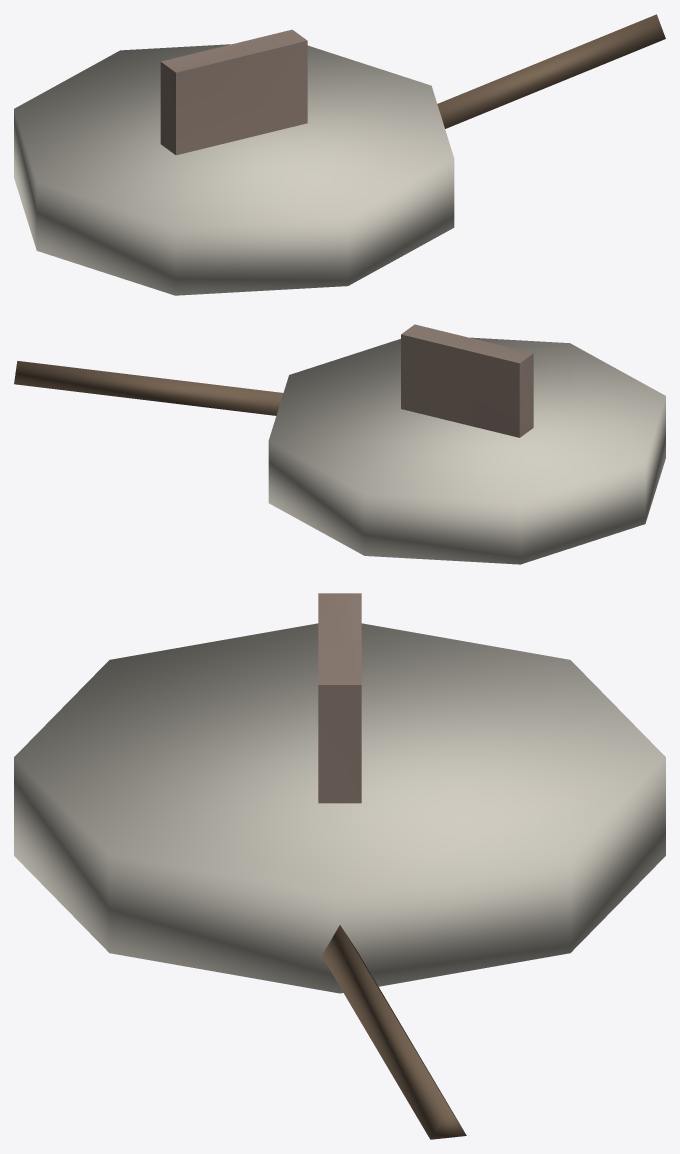
File: bone_token.glb
3 views of the same model, one above another, from view 1: azimuth 30°, elevation 25°; view 2: azimuth 150°, elevation 25°; view 3: azimuth 270°, elevation 25° (orthographic). The views are drawn at different scales.
Parts seen in each view (by area): view 1: bone_token; view 2: bone_token; view 3: bone_token.
Boxes of the visible parts, x1,y1,x2,y2 form: bone_token: [14, 14, 665, 295]; bone_token: [14, 324, 665, 564]; bone_token: [14, 593, 665, 1139].
Bounding box in the file's own units: 0.1004 × 0.022 × 0.06.
